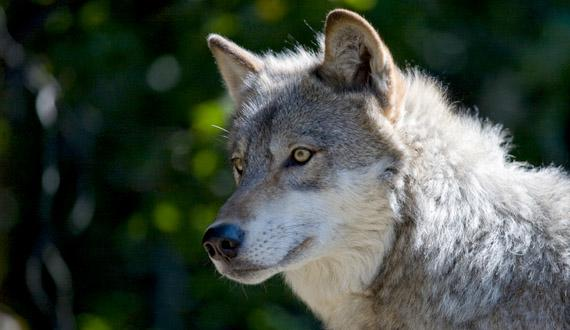Wolf: (204, 6, 570, 327)
